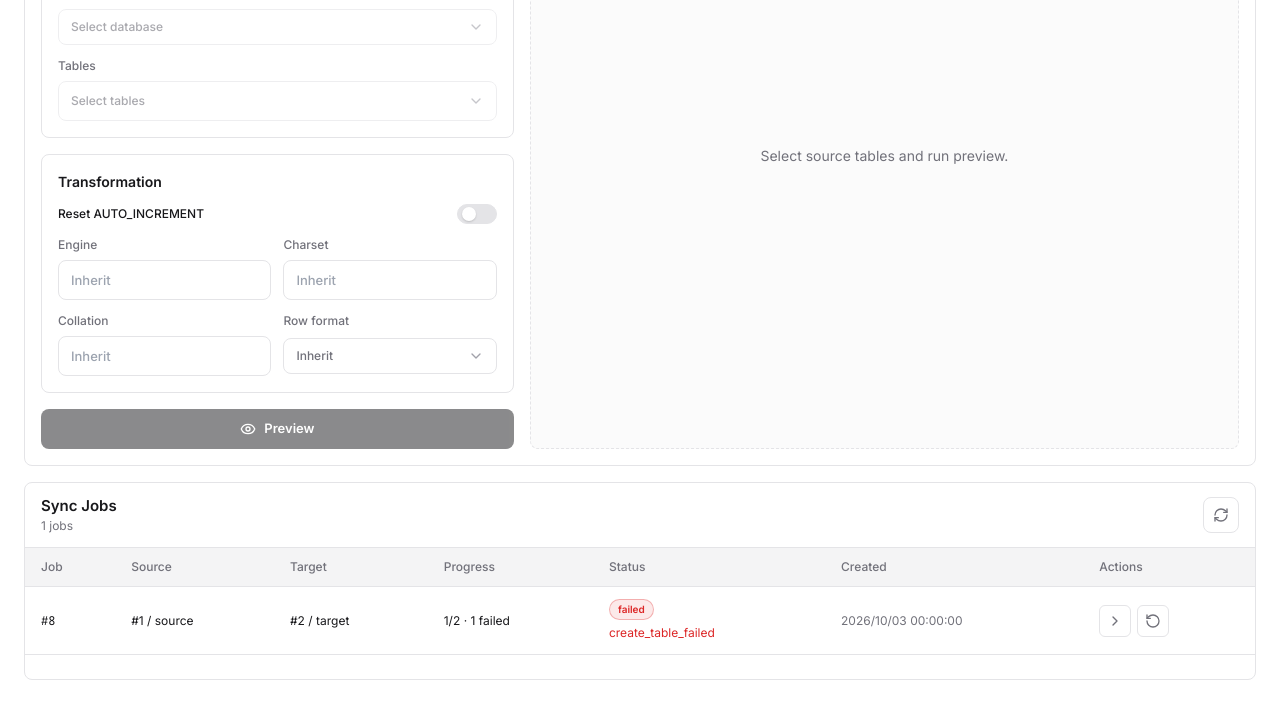
Test case: TableSchemasPage › 呈現 partial failure detail 與逐表耗時
This screenshot has width=1280, height=704.
(page scrolled)
Expected: the text "#8" is shown, [25,586,115,654]
Click the button named "View job 8".
click(1115, 620)  # box [1099,604,1131,636]
(page scrolled)
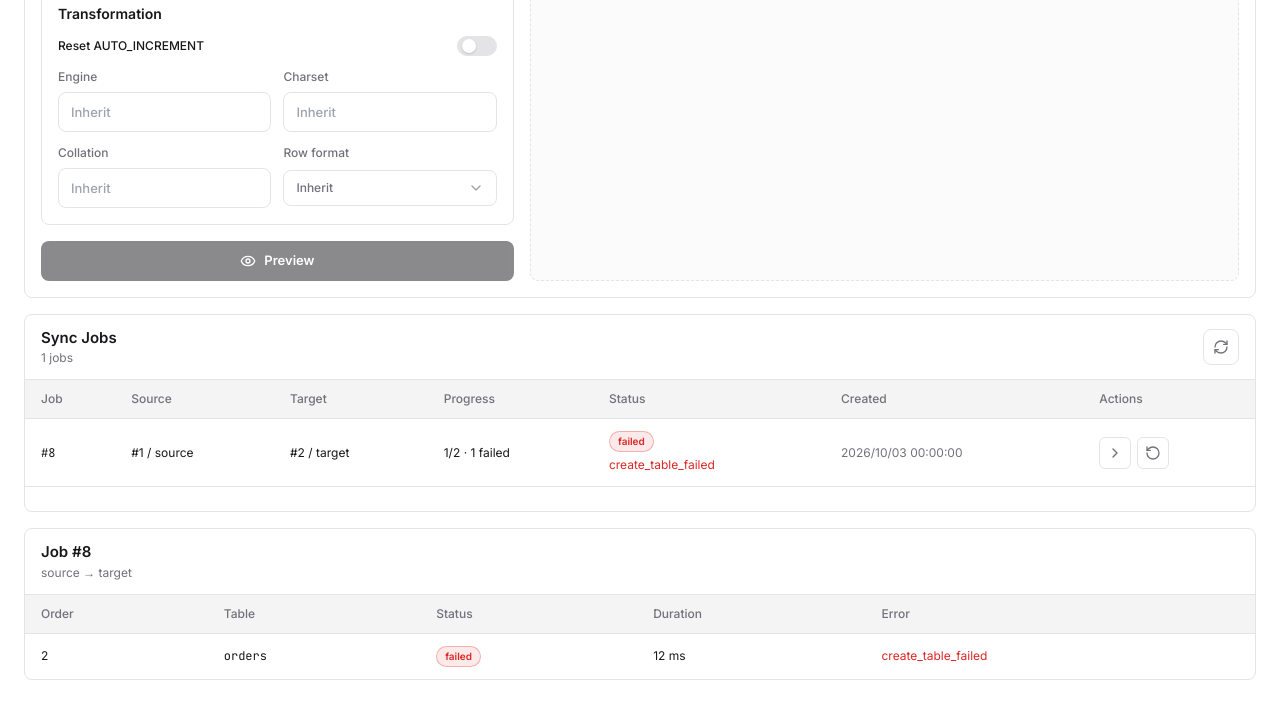
Now the text "orders" is shown, box [208,633,420,678]
Now the text "12 ms" is shown, box [637,633,866,678]
